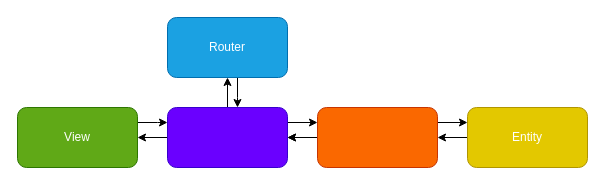
Image size: 605x185. Some labels were removed from this diagram. Each missing label, with the box of its shape:
Interactor: (316, 106, 438, 168)
Presenter: (166, 106, 288, 168)
